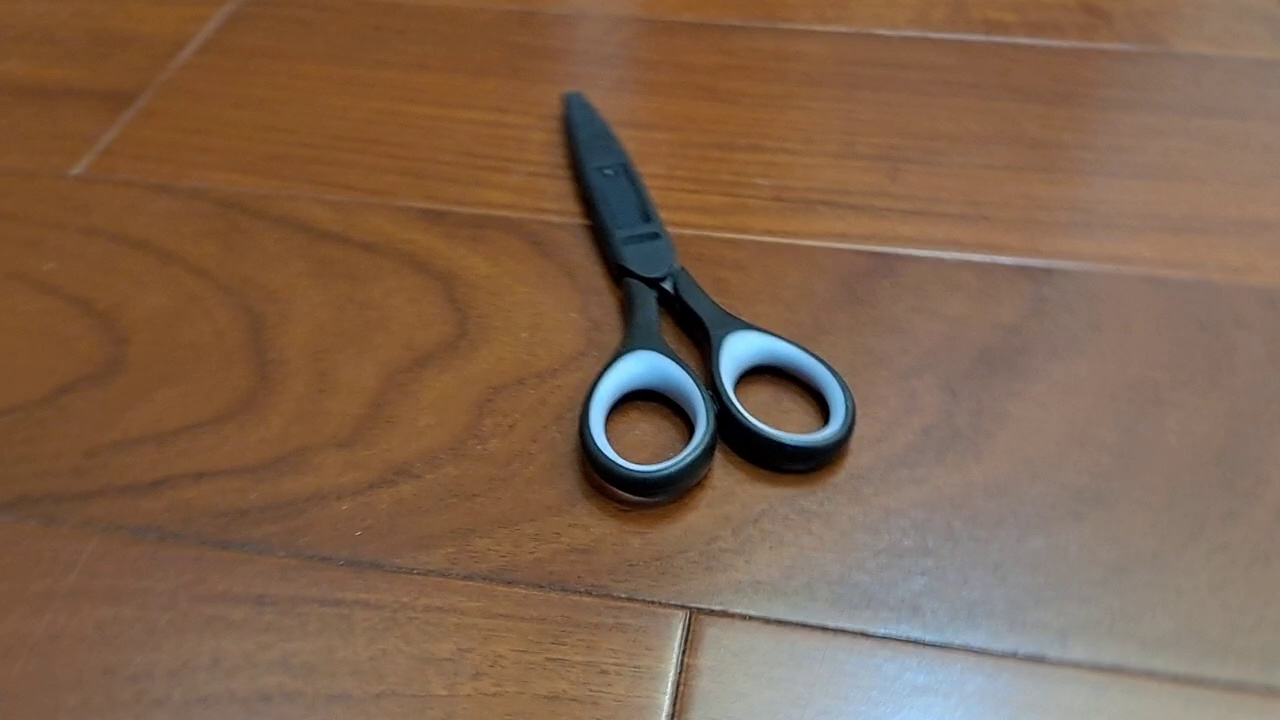scissors: (560, 89, 857, 499)
